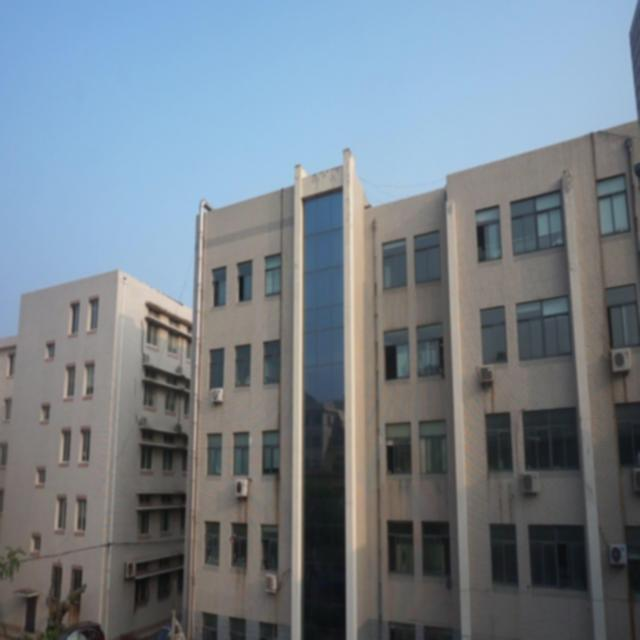UAV: (228, 534, 236, 544)
